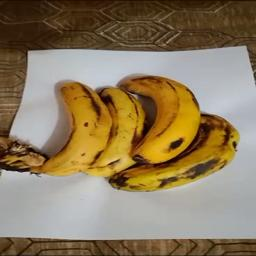Banana Semifresh: (34, 62, 242, 197), (120, 65, 203, 172), (36, 72, 109, 179)
